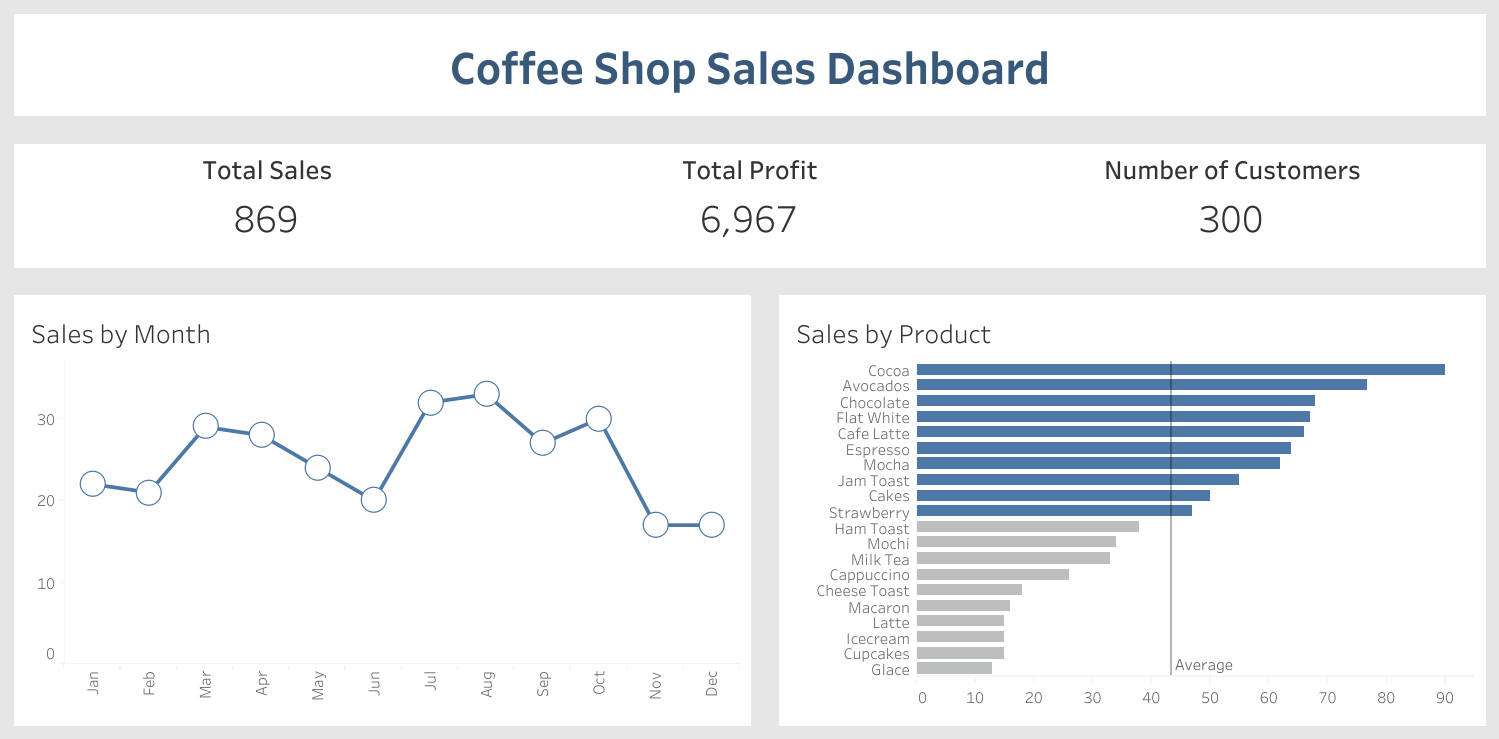

The page's visual inventory and layout, read from the dashboard file:
{"tool":"tableau","page":{"name":"Dashboard 1","canvas":[1000,1000],"units":"permille","ordinal":0},"visuals":[{"type":"text","box":[0,0,1000,173.3]},{"type":"legend","title":"Sales by Product","param":"[federated.0ju1gks19v9sm21bjv5ie0ljsspd].[usr:Calculation_1241867635642204165:nk","box":[860,13.3,133.3,120]},{"type":"worksheet","title":"KPI's","mark":"Automatic","box":[0,173.3,1000,201.7]},{"type":"worksheet","title":"Sales by Month","mark":"Automatic","rows":["order_id","order_id"],"cols":["created_at"],"box":[0,375,510,624.9]},{"type":"worksheet","title":"Sales by Product","mark":"Automatic","rows":["item_name"],"cols":["quantity"],"box":[510,375,490,624.9]}]}

Visuals, with their boxes on the dashboard's canvas, which has no fixed pixel size, in thousandths of its width and height (x1, y1, x2, y2). These are canvas units, not pixel positions in the 1499x739 screenshot, which may show the page scaled, cropped or inside an application window:
text: <box>0,0,1000,173</box>
"Sales by Product" legend: <box>860,13,993,133</box>
"KPI's" worksheet: <box>0,173,1000,375</box>
"Sales by Month" worksheet: <box>0,375,510,1000</box>
"Sales by Product" worksheet: <box>510,375,1000,1000</box>
